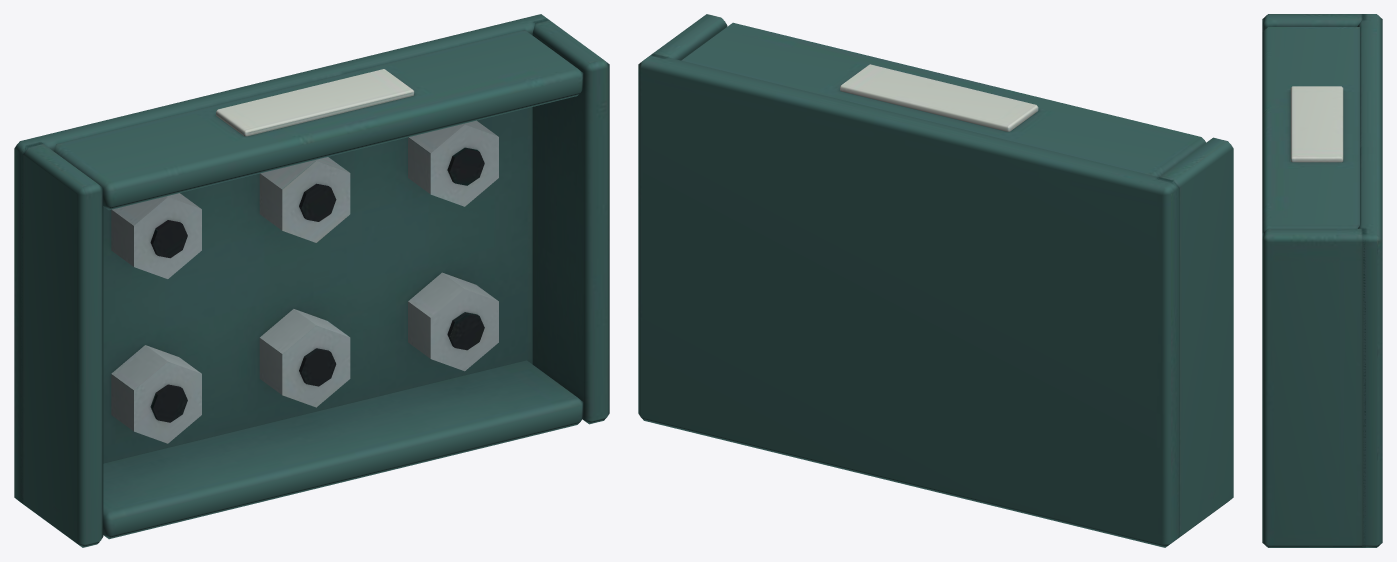
The model's file is parts_crate.obj.
3 renders of one model, left to right at view 1: azimuth 30°, elevation 25°; view 2: azimuth 150°, elevation 25°; view 3: azimuth 270°, elevation 25°, orthographic. The views are drawn at different scales.
Visible parts, largest first — view 1: parts_crate; view 2: parts_crate; view 3: parts_crate.
Part boxes in pixels (x1=…): parts_crate: x1=14, y1=14, x2=609, y2=547; parts_crate: x1=638, y1=14, x2=1233, y2=547; parts_crate: x1=1262, y1=14, x2=1382, y2=547.
Size of the model in its own units: 0.122 by 0.0805 by 0.0275.
Materials: 2 (2 with a texture image).
